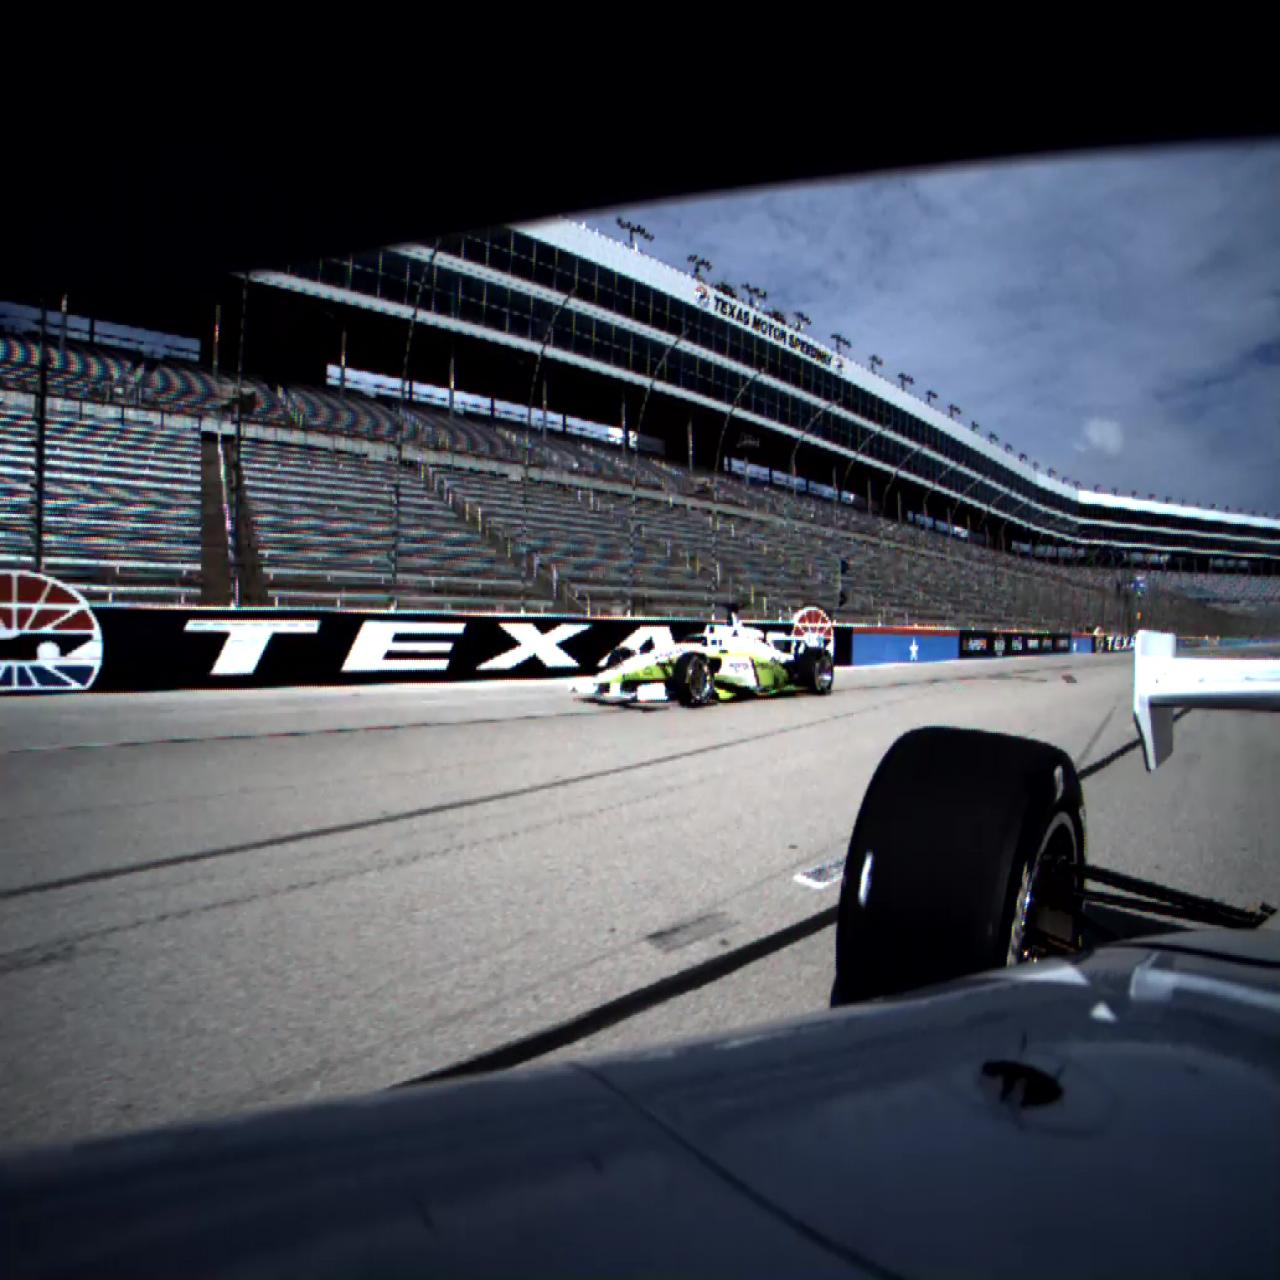AV: (570, 602, 834, 709)
Wheel: (836, 724, 1092, 1010), (675, 652, 715, 708), (606, 647, 637, 700), (803, 646, 834, 696)
